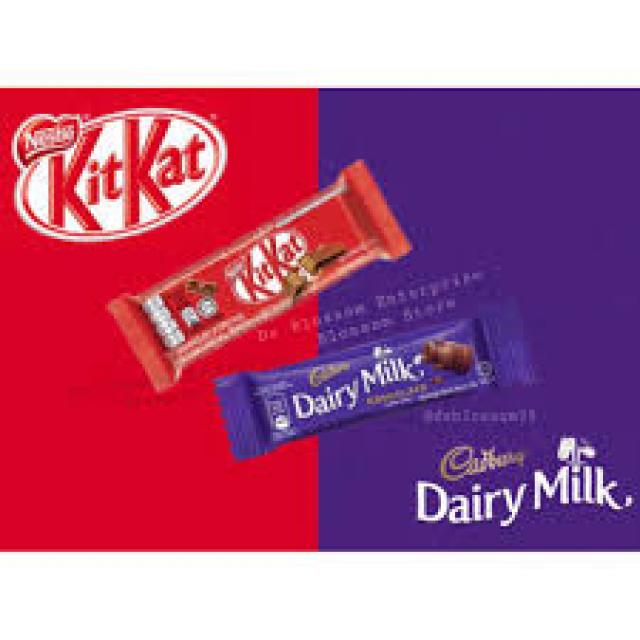kitkat: (115, 159, 412, 385)
